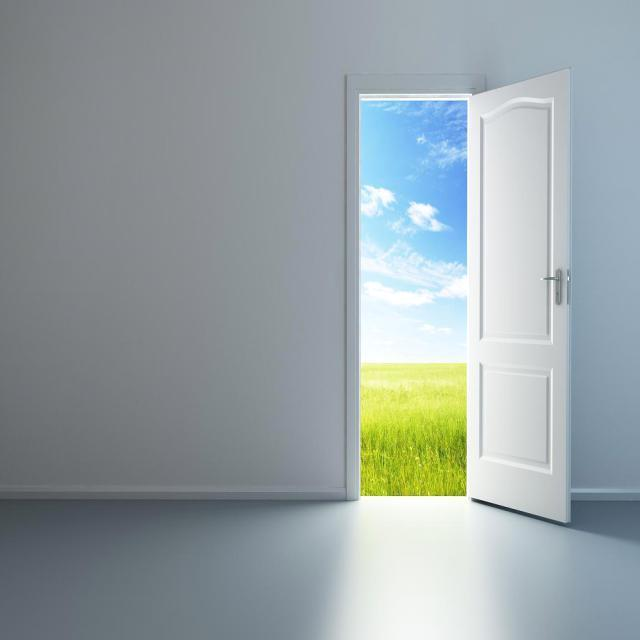door: (336, 59, 577, 541)
